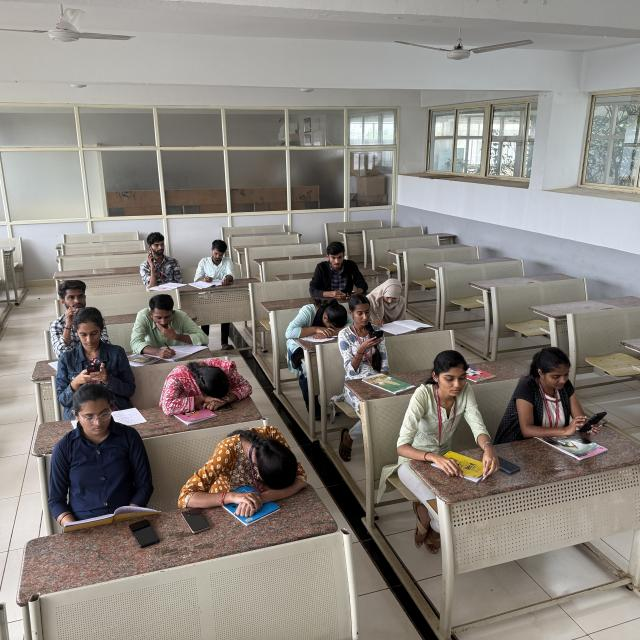Reading: (46, 384, 162, 527)
Sleeping: (180, 429, 316, 506), (155, 349, 257, 414), (284, 299, 352, 340)
Using Phone: (53, 310, 132, 409), (518, 350, 598, 440), (306, 242, 367, 299), (343, 296, 383, 372), (142, 230, 182, 282)
Writing: (134, 300, 211, 358), (366, 276, 424, 330), (193, 237, 234, 288)
